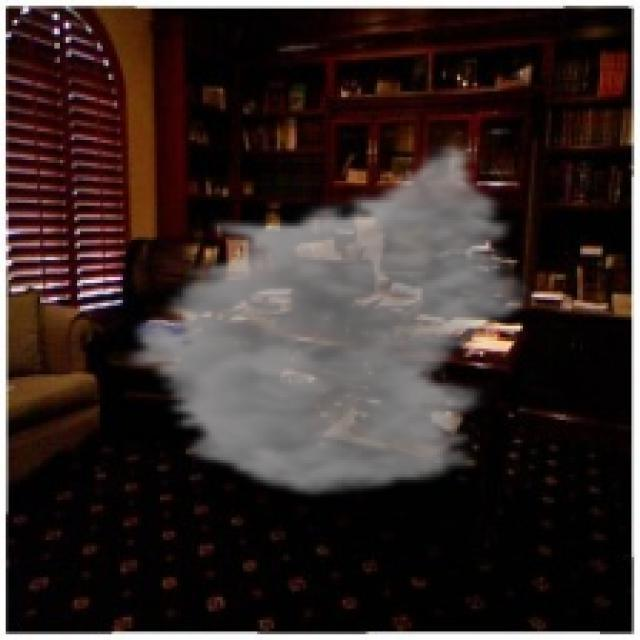Smoke: (117, 140, 540, 500)
